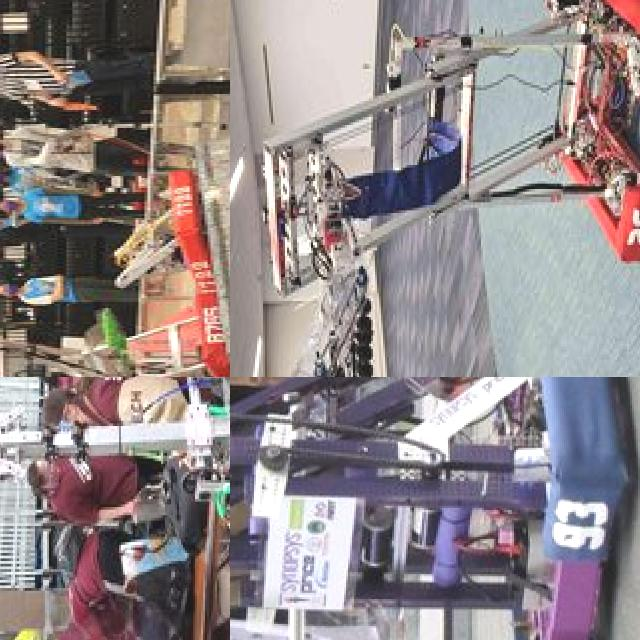FRC-Robots: (230, 0, 640, 377), (230, 377, 626, 640), (0, 377, 230, 640), (53, 133, 230, 272), (16, 273, 230, 377)
